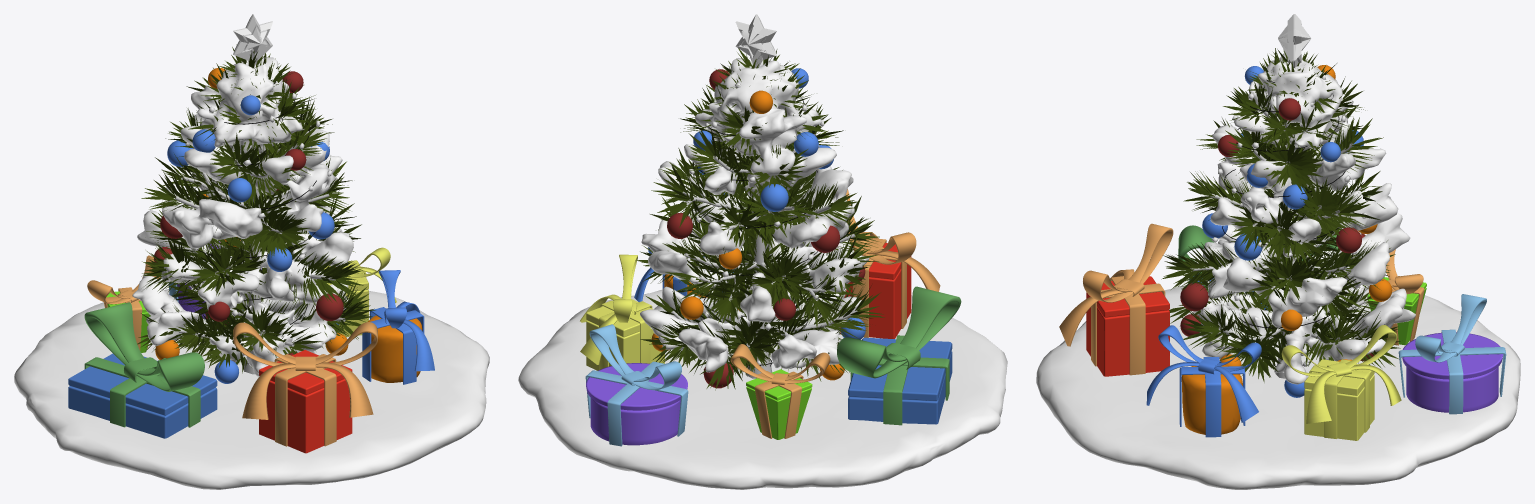
File: Elka2.fbx
The picture shows the model from 3 angles, left to right: view 1: azimuth 30°, elevation 25°; view 2: azimuth 150°, elevation 25°; view 3: azimuth 270°, elevation 25°; orthographic projection. The views are drawn at different scales.
Parts seen in each view (by area): view 1: SnowBall.002, SnowBall.001, leaves, Cube, Cube.008, Cube.010, Cube.001, NurbsPath.016, NurbsPath.002, Cube.009, Cylinder.001, tree (+10 smaller); view 2: SnowBall.002, leaves, SnowBall.001, Cube.010, tree, Cylinder, Cube, NurbsPath.015, Cylinder.002, Cube.002, Cube.008, NurbsPath.016 (+19 smaller); view 3: SnowBall.002, leaves, SnowBall.001, Cube, Cylinder, Cylinder.001, Cylinder.002, Cube.001, Cube.003, Cube.002, Cube.005, tree (+18 smaller).
Part boxes in pixels (bbox=[...]): SnowBall.002: bbox=[14, 289, 489, 489]; SnowBall.001: bbox=[132, 57, 353, 376]; leaves: bbox=[137, 44, 375, 373]; Cube: bbox=[259, 379, 352, 453]; Cube.008: bbox=[68, 386, 217, 438]; Cube.010: bbox=[68, 353, 217, 415]; Cube.001: bbox=[274, 354, 336, 446]; NurbsPath.016: bbox=[84, 302, 152, 370]; NurbsPath.002: bbox=[242, 362, 373, 419]; Cube.009: bbox=[84, 357, 200, 427]; Cylinder.001: bbox=[368, 315, 422, 382]; tree: bbox=[173, 110, 345, 374]; SnowBall.002: bbox=[518, 284, 1007, 489]; leaves: bbox=[635, 48, 884, 390]; SnowBall.001: bbox=[640, 58, 869, 372]; Cube.010: bbox=[848, 337, 952, 401]; tree: bbox=[671, 113, 857, 378]; Cylinder: bbox=[590, 398, 680, 445]; Cube: bbox=[840, 256, 911, 338]; NurbsPath.015: bbox=[891, 286, 961, 356]; Cylinder.002: bbox=[586, 363, 687, 410]; Cube.002: bbox=[585, 361, 688, 446]; Cube.008: bbox=[848, 351, 952, 424]; NurbsPath.016: bbox=[837, 337, 907, 378]; SnowBall.002: bbox=[1036, 285, 1520, 489]; leaves: bbox=[1161, 48, 1400, 382]; SnowBall.001: bbox=[1192, 53, 1415, 384]; Cube: bbox=[1086, 292, 1169, 376]; Cylinder: bbox=[1406, 367, 1498, 412]; Cylinder.001: bbox=[1181, 365, 1242, 434]; Cylinder.002: bbox=[1402, 332, 1503, 379]; Cube.001: bbox=[1091, 276, 1165, 375]; Cube.003: bbox=[1304, 375, 1374, 440]; Cube.002: bbox=[1398, 329, 1506, 414]; Cube.005: bbox=[1179, 357, 1245, 437]; tree: bbox=[1190, 108, 1370, 378].
Size of the model in its own units: 1144 by 980 by 1126.
